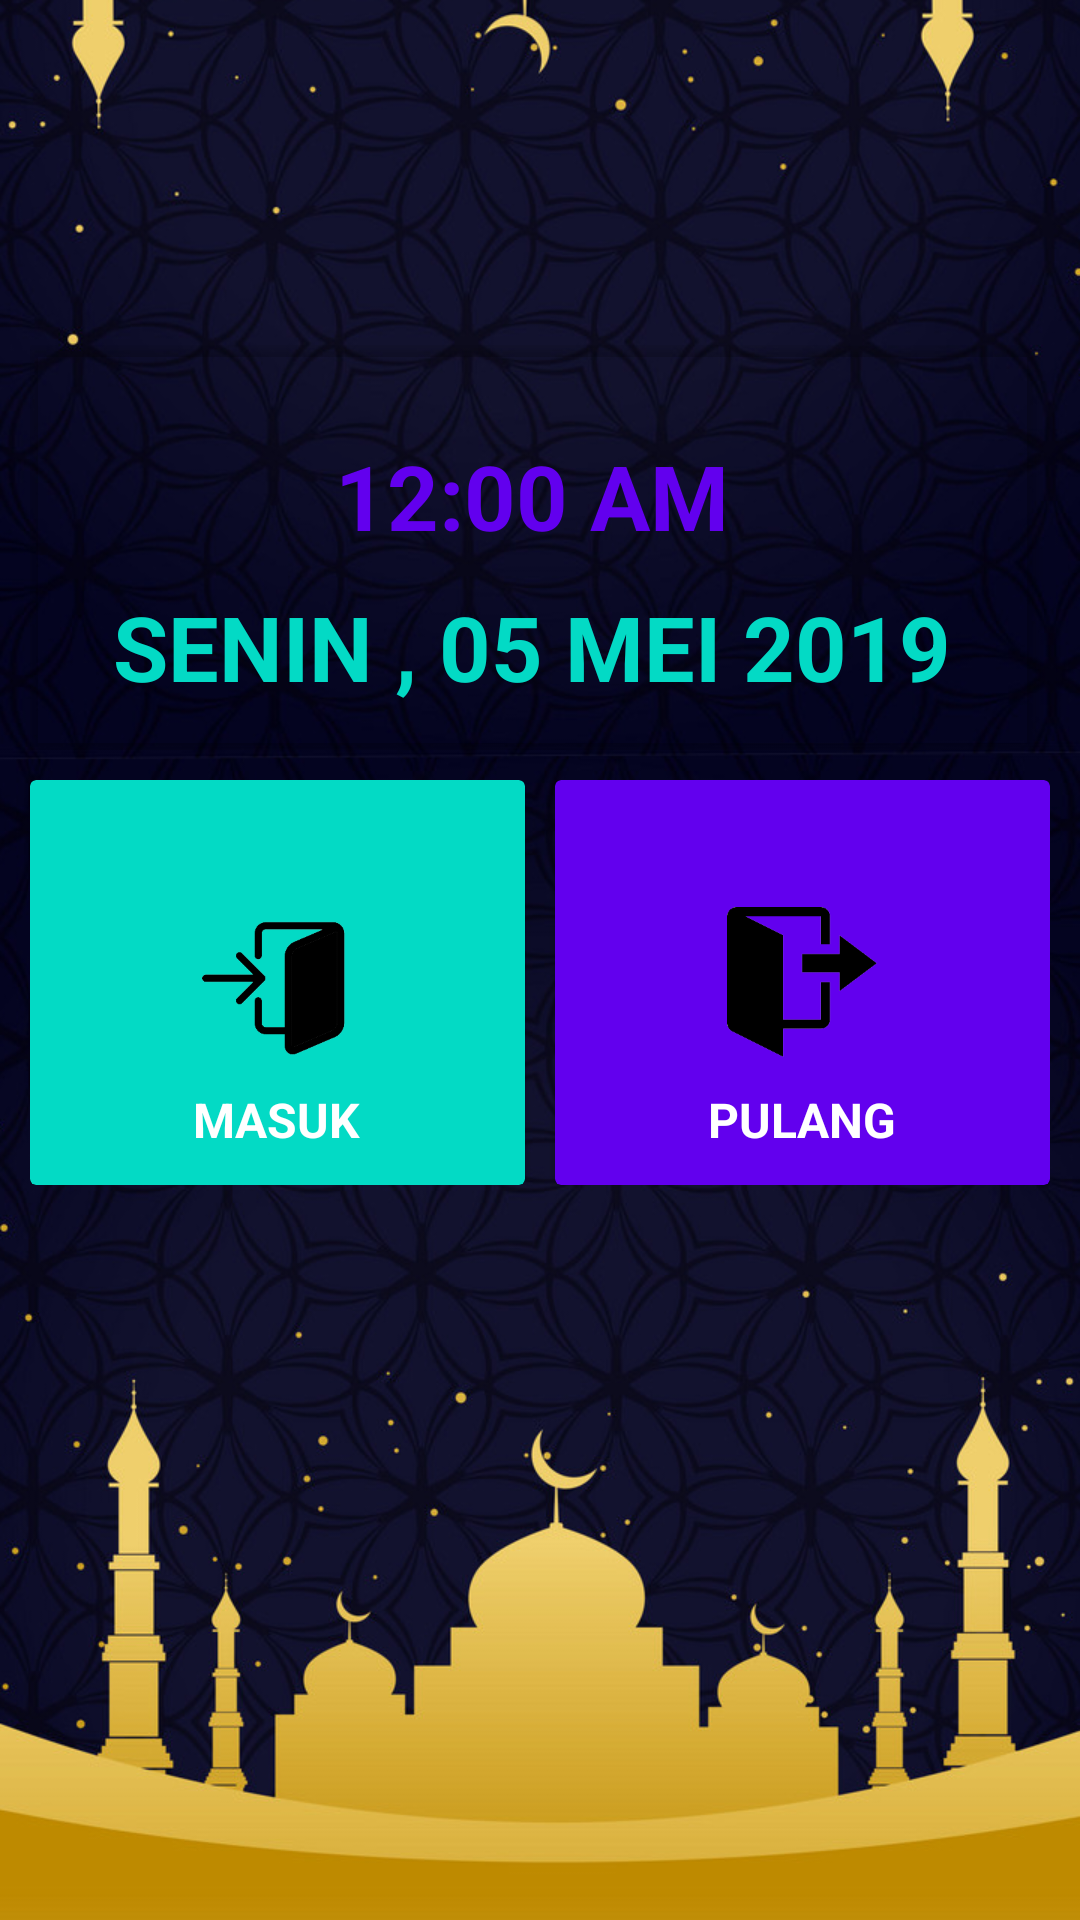

Named icons in this screenshot (1080 x 1920) and their bounding boxes, (x1, y1, x2, y2):
keluar: (727, 907, 877, 1057)
